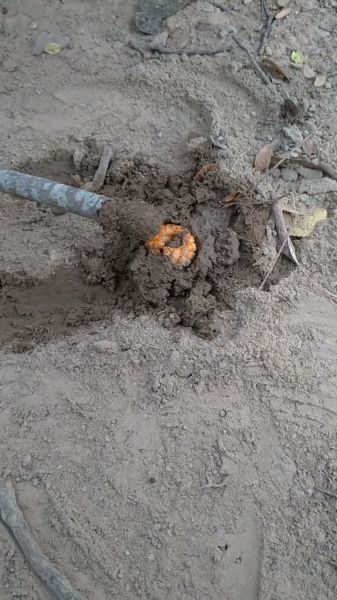eggs: (142, 220, 200, 274)
